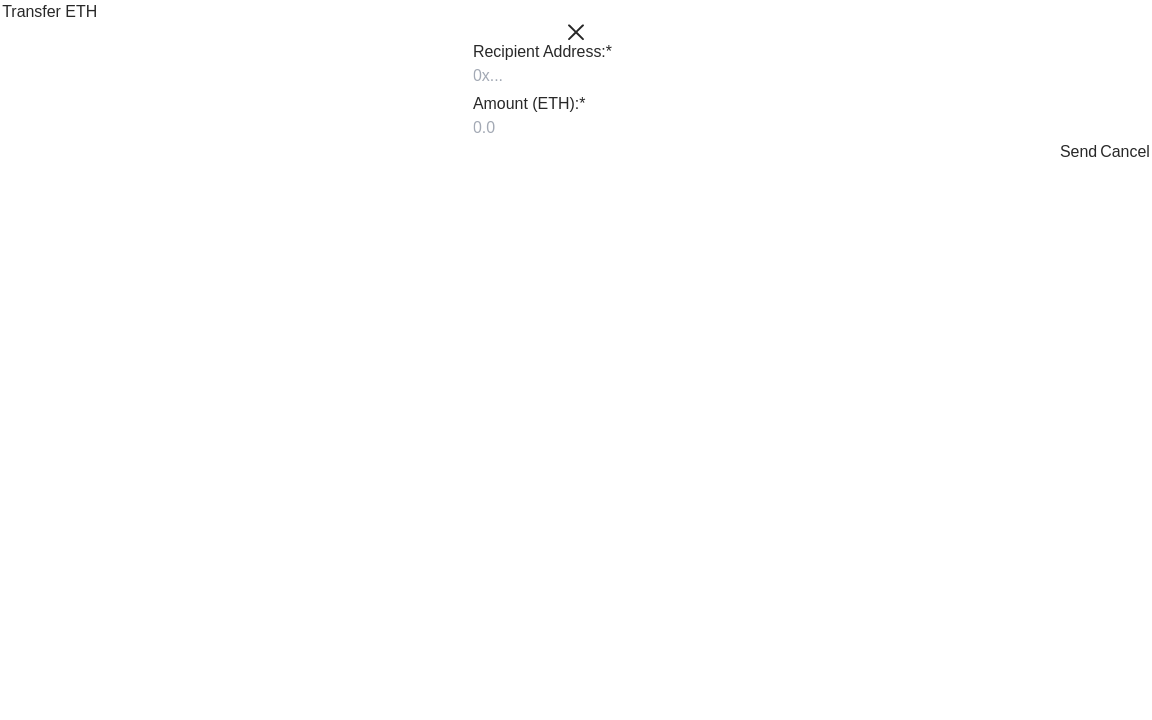
Scenario: TransferModal › Form Validation › validates invalid ethereum address
The image size is (1152, 720).
Type "0xinvalid" into the field labelled "Recipient Address:*" at (576, 76), box [473,64,679,88]
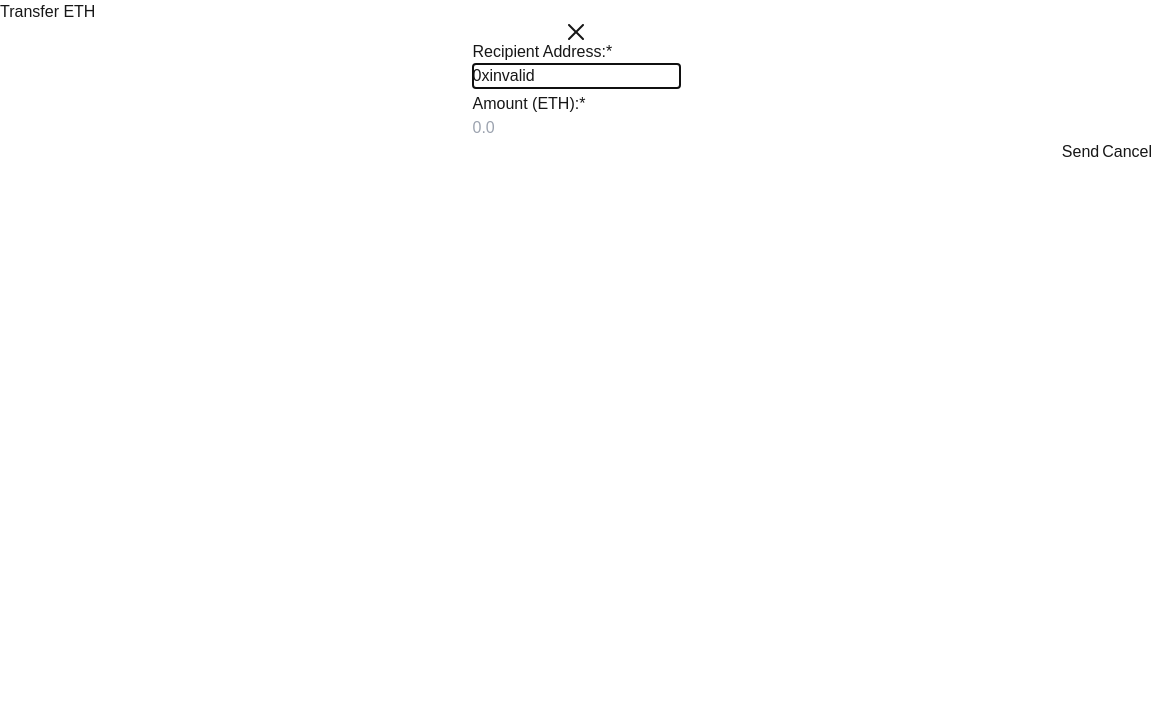
Type "0.1" into the number field labelled "Amount (ETH):*" at (576, 128), box [472,116,680,140]
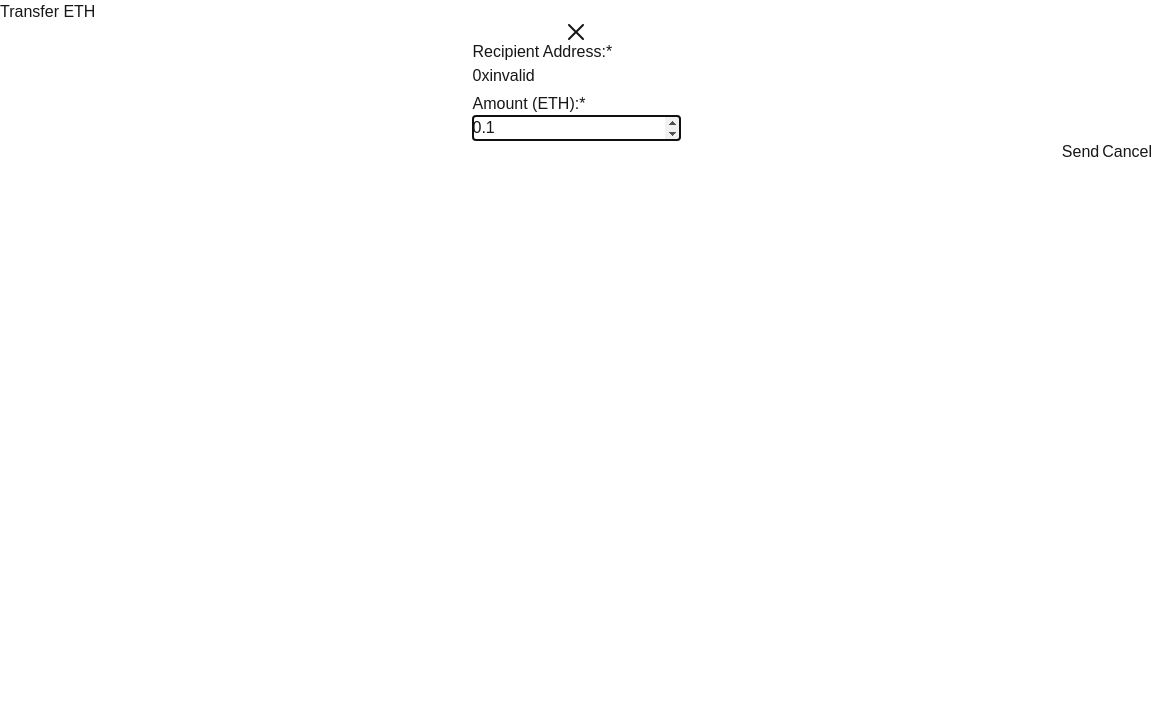
Click the button "Send" at (1080, 152), box [1062,140,1099,164]
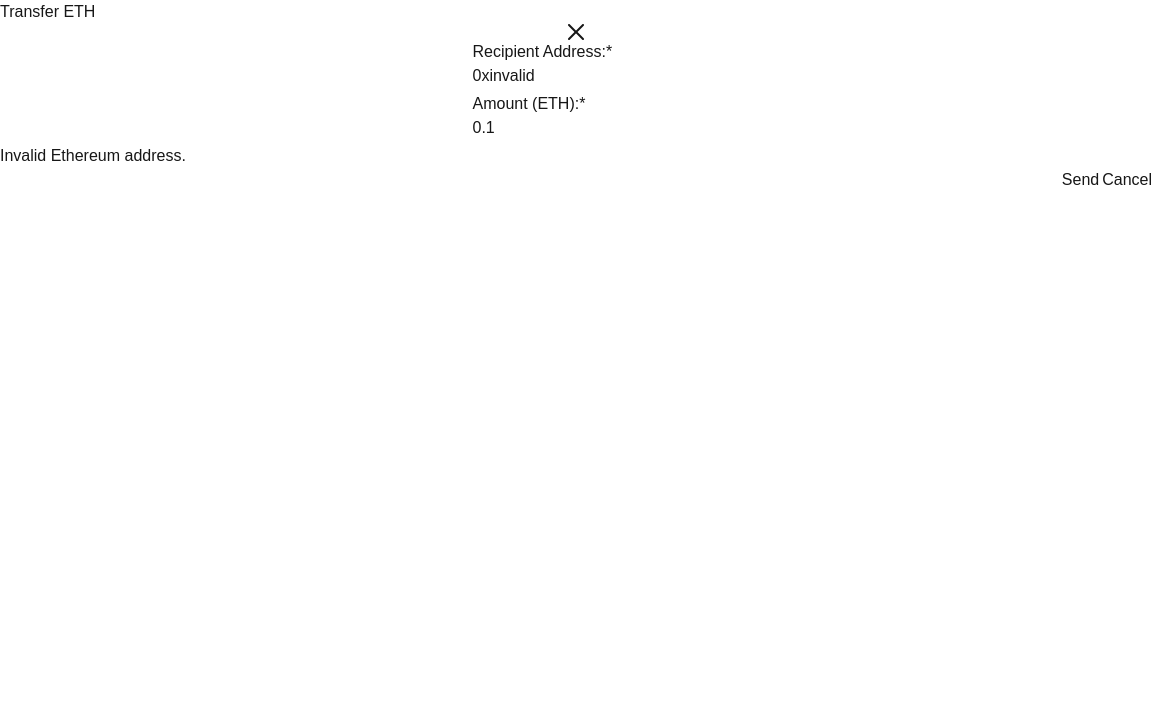
Now the text "Invalid Ethereum address." is shown, box [0,147,186,164]
